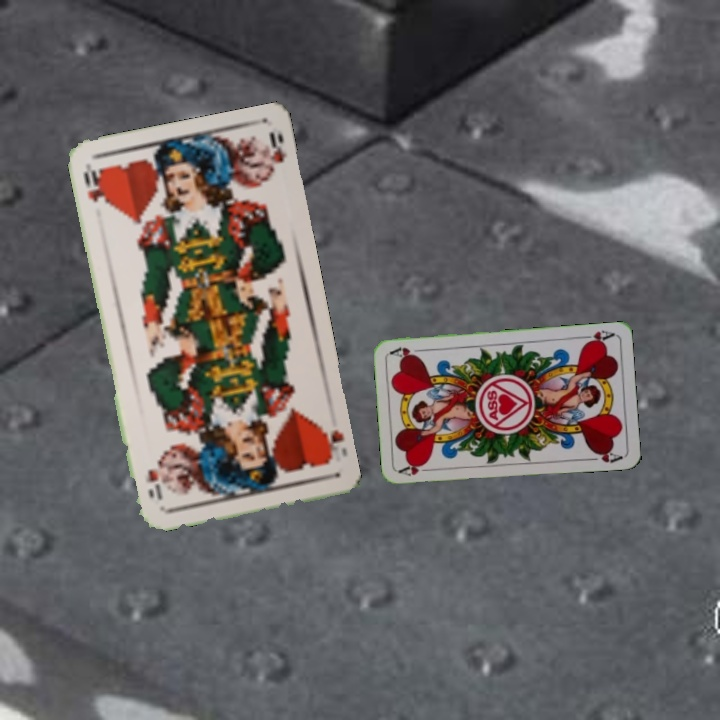HA: (575, 326, 616, 347), (396, 459, 437, 479)
HO: (315, 422, 346, 466), (79, 164, 109, 205)
